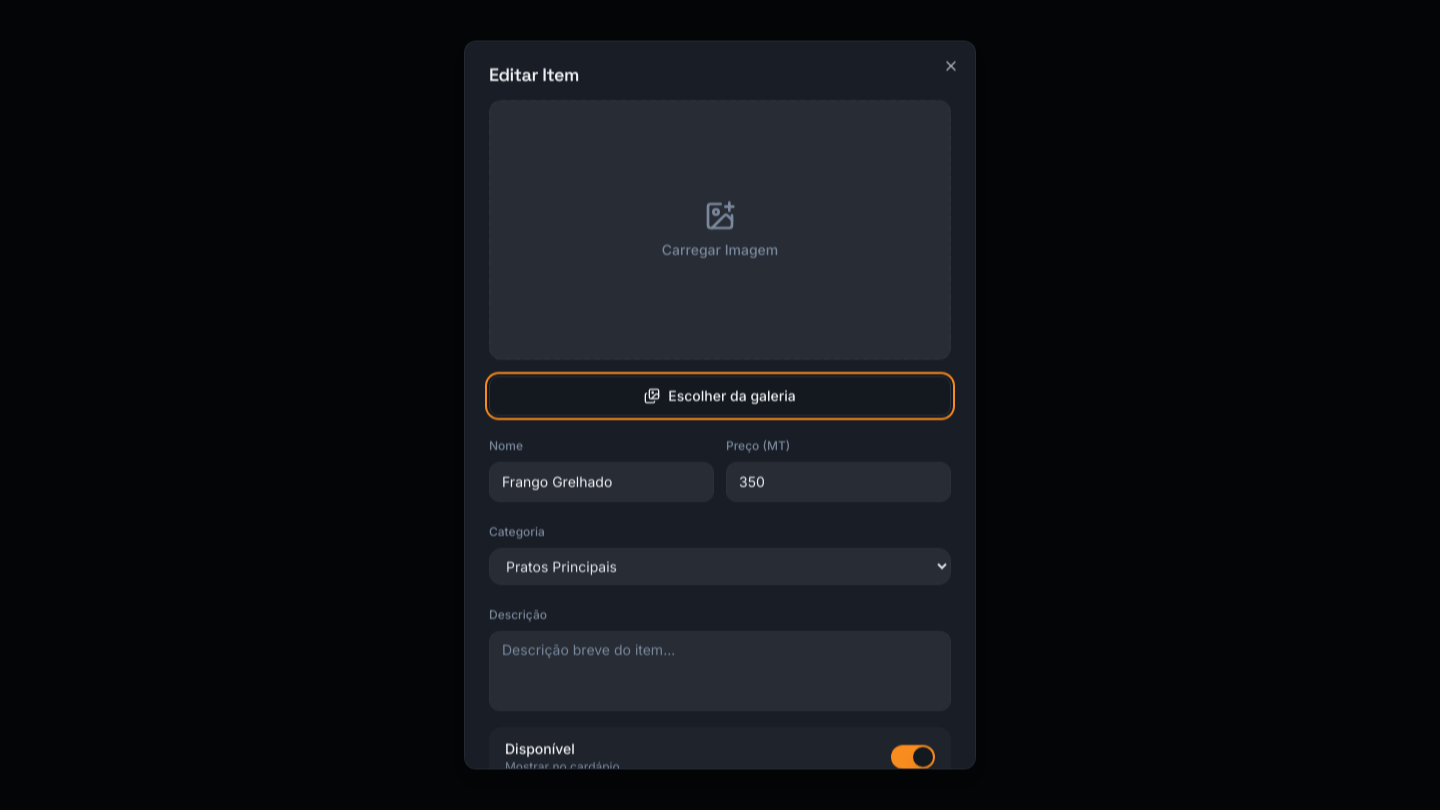
Test: MenuItemDialog — categoria "Bebidas" › trocar activamente para Bebidas limpa passos/tempo (não reaparecem ao voltar para outra categoria)
Step 1. Select "Bebidas" in the dropdown showing "Pratos Principais" → [720, 566], box [489, 547, 951, 584]
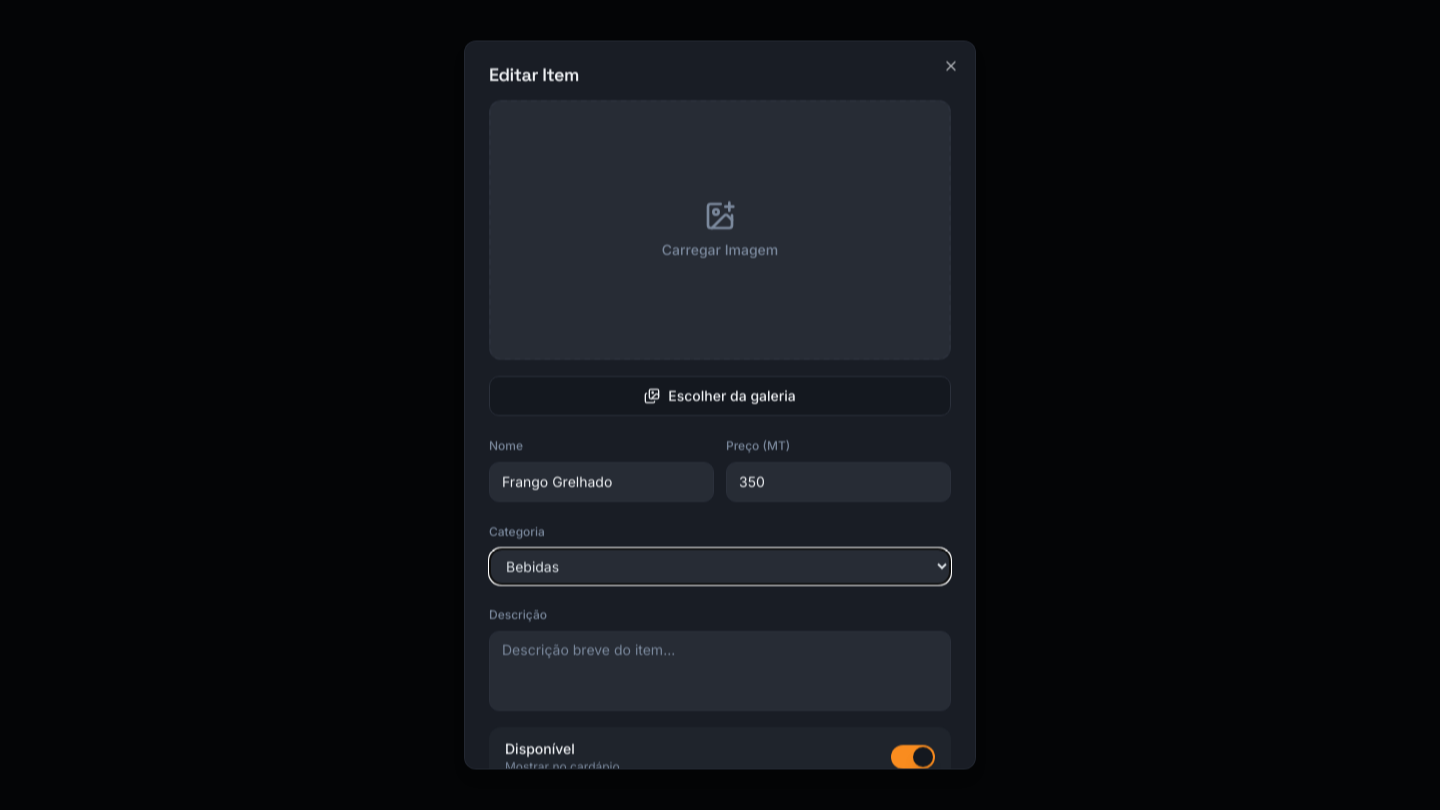
Step 2. Select "Entradas" in the dropdown showing "Bebidas" → [720, 566], box [489, 547, 951, 584]
(page scrolled)
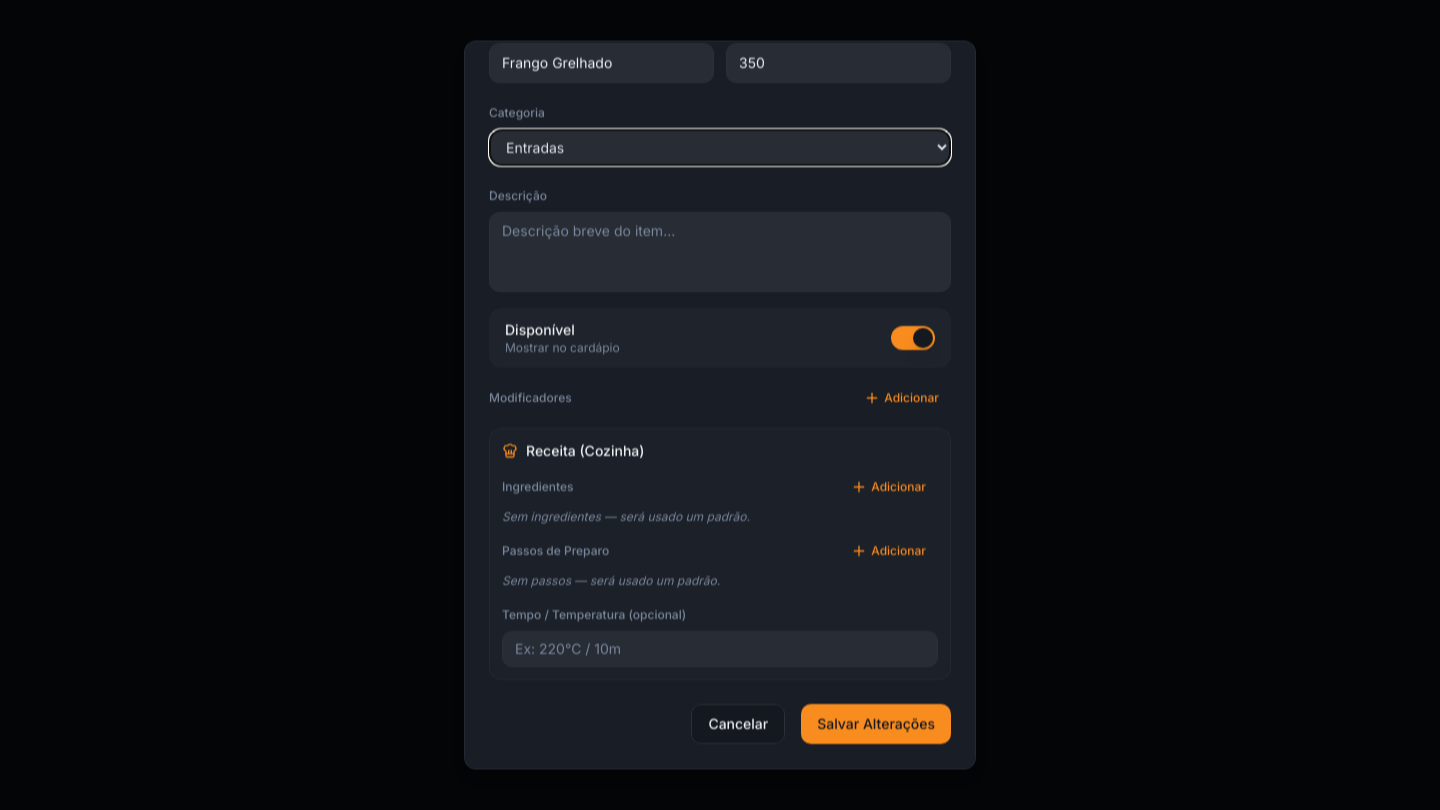
Expected: the text "Sem passos — será usado um padrão." is shown, [502, 573, 720, 588]
Expected: the field with placeholder "Ex: 220°C / 10m" is empty, [502, 631, 938, 667]
